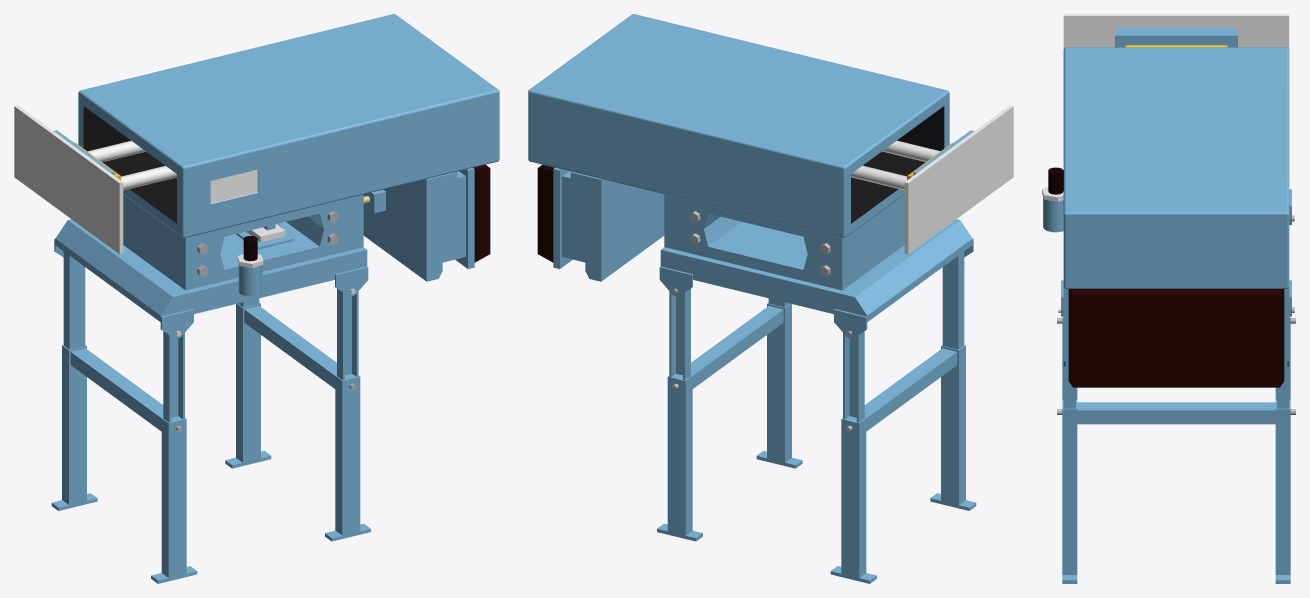
3 renders of one model, left to right at view 1: azimuth 30°, elevation 25°; view 2: azimuth 150°, elevation 25°; view 3: azimuth 270°, elevation 25°, orthographic. The views are drawn at different scales.
Visible parts, largest first — view 1: Solid1; view 2: Solid1; view 3: Solid1.
Boxes of the visible parts, x1,y1,x2,y2 form: Solid1: [14, 14, 499, 583]; Solid1: [528, 14, 1013, 583]; Solid1: [1042, 14, 1291, 583].
Bounding box in the file's own units: 0.9144 × 0.94 × 0.4925.
